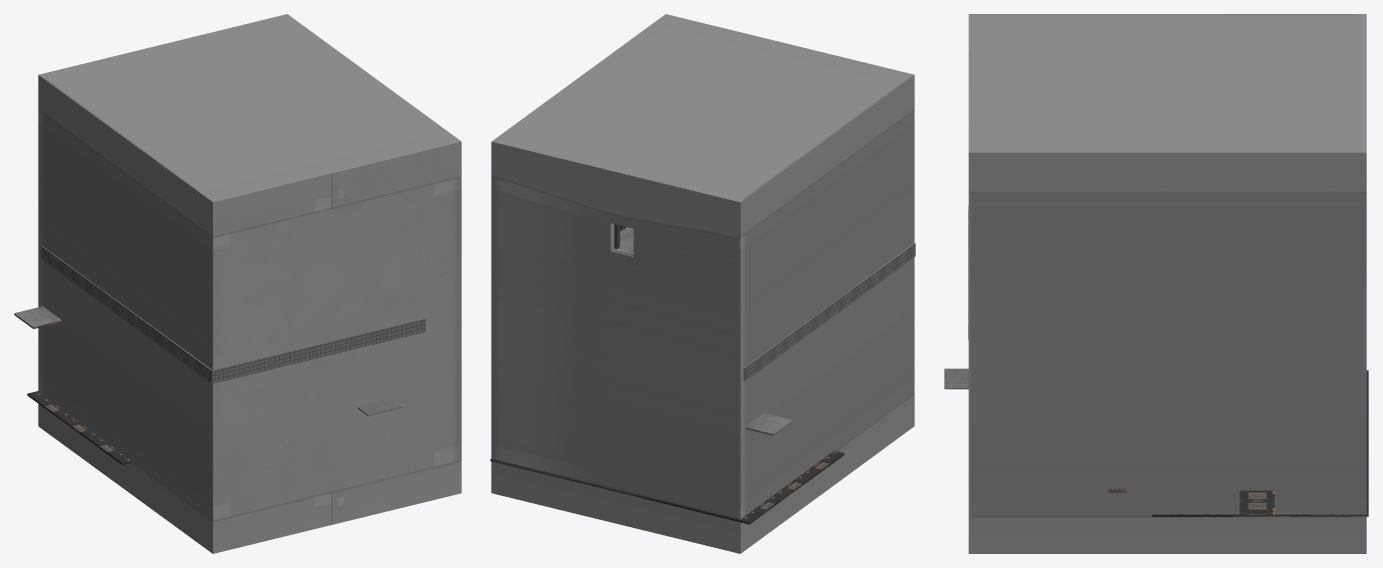
The model's file is MAPA_1.fbx.
3 renders of one model, left to right at view 1: azimuth 30°, elevation 25°; view 2: azimuth 150°, elevation 25°; view 3: azimuth 270°, elevation 25°, orthographic. The views are drawn at different scales.
Parts seen in each view (by area): view 1: Cube.001, PISO_1, PISO_2, PASILLO.003; view 2: Cube.001, PISO_1, PISO_2, PASILLO.003; view 3: Cube.001, PISO_2, PASILLO.002.
Boxes of the visible parts, x1,y1,x2,y2 form: Cube.001: [38, 14, 461, 553]; PISO_1: [41, 245, 425, 383]; PISO_2: [27, 391, 132, 464]; PASILLO.003: [14, 306, 62, 328]; Cube.001: [491, 14, 914, 553]; PISO_1: [620, 227, 915, 381]; PISO_2: [490, 450, 844, 524]; PASILLO.003: [745, 413, 792, 435]; Cube.001: [968, 14, 1366, 553]; PISO_2: [1152, 370, 1368, 516]; PASILLO.002: [944, 368, 968, 389].
Size of the model in its own units: 75.5 by 89.97 by 86.23.
